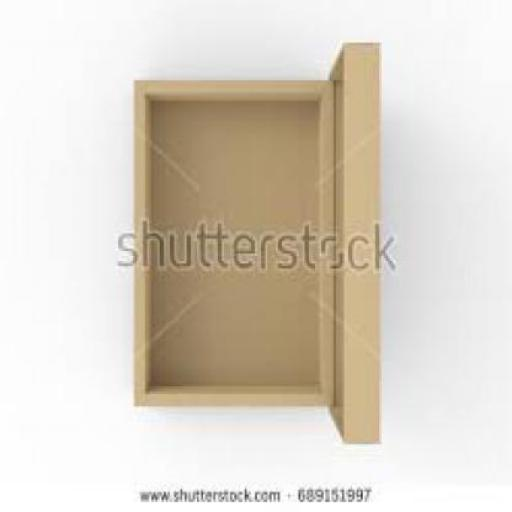cardboard: (130, 40, 376, 442)
